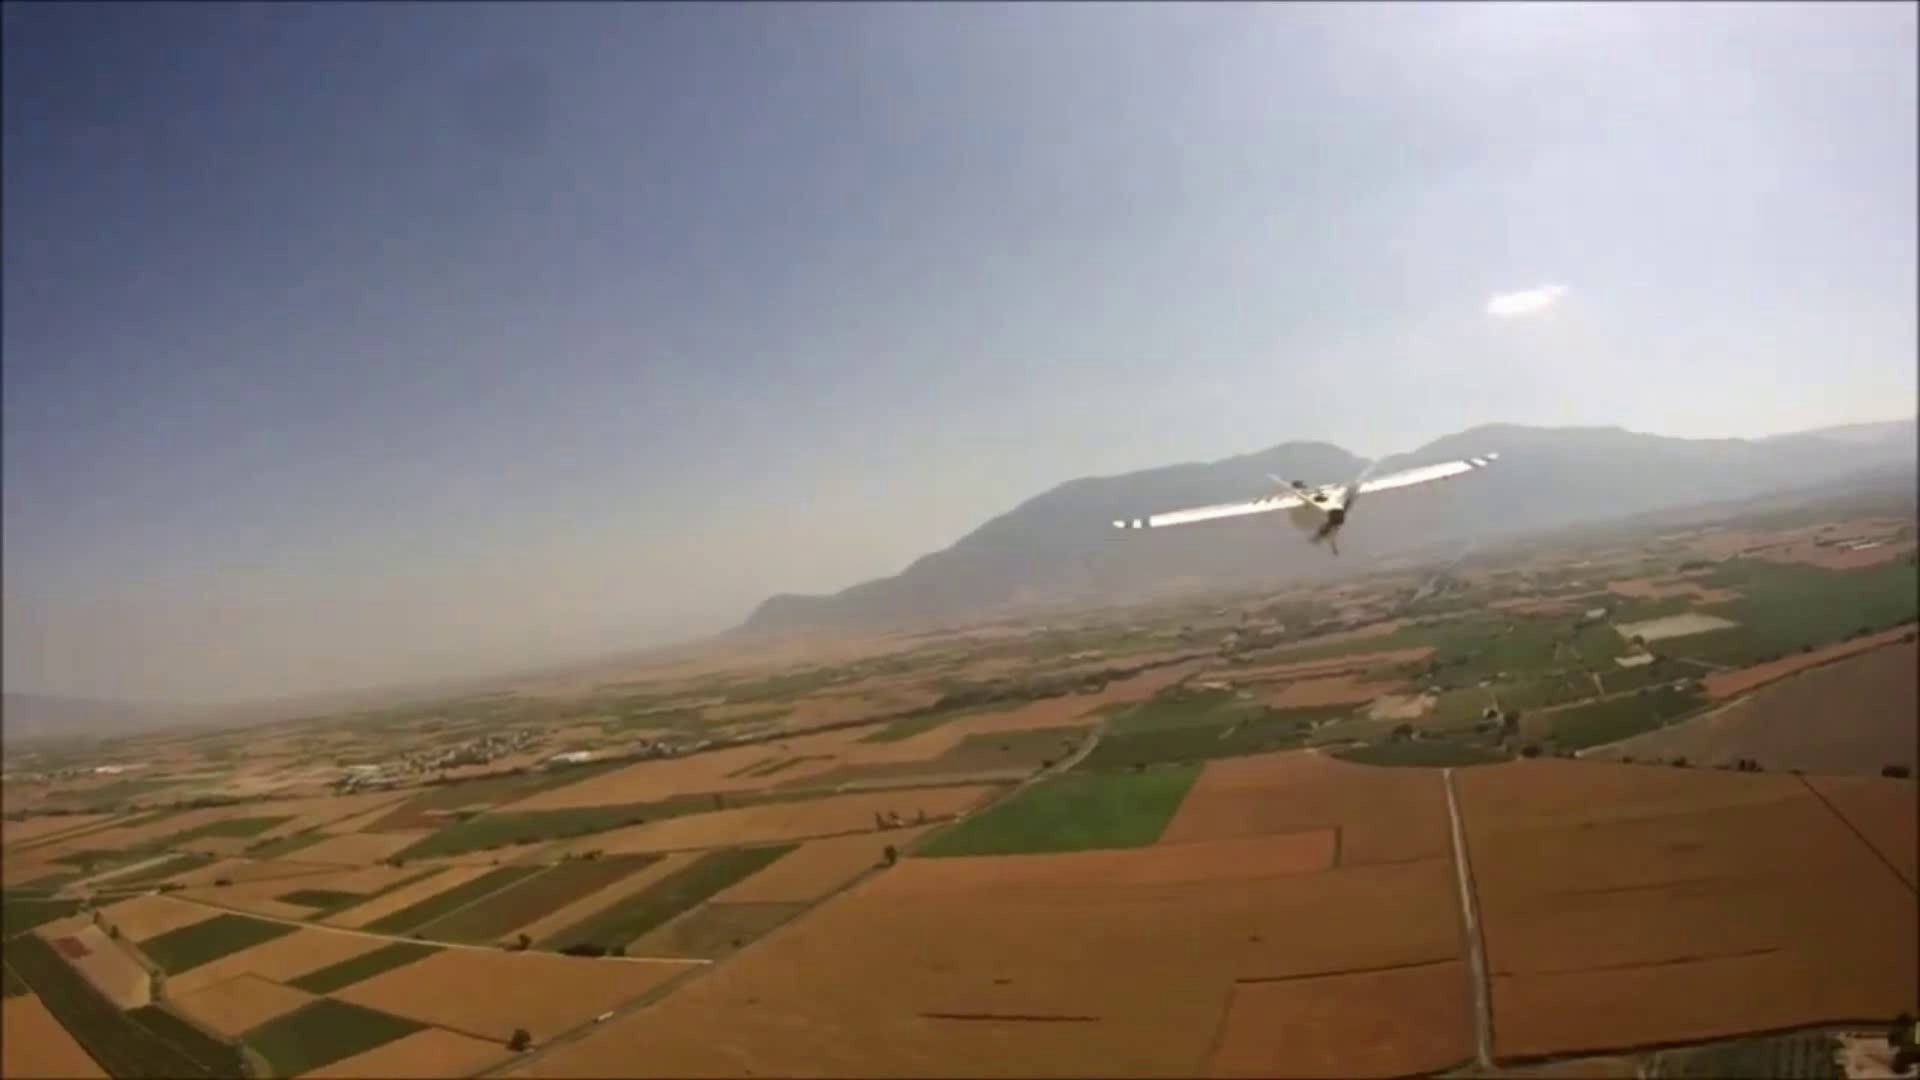airplane: (1110, 438, 1498, 551)
